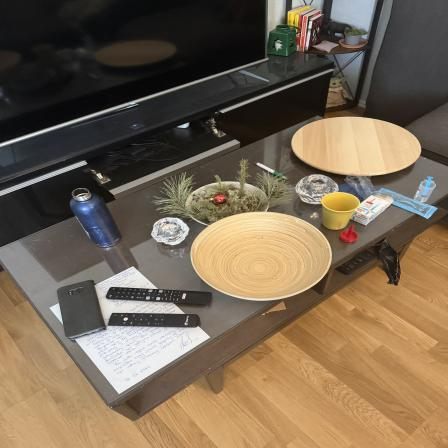blue_bottle: (65, 188, 128, 250)
phone: (54, 279, 110, 342)
yellow_cup: (320, 193, 361, 230)
